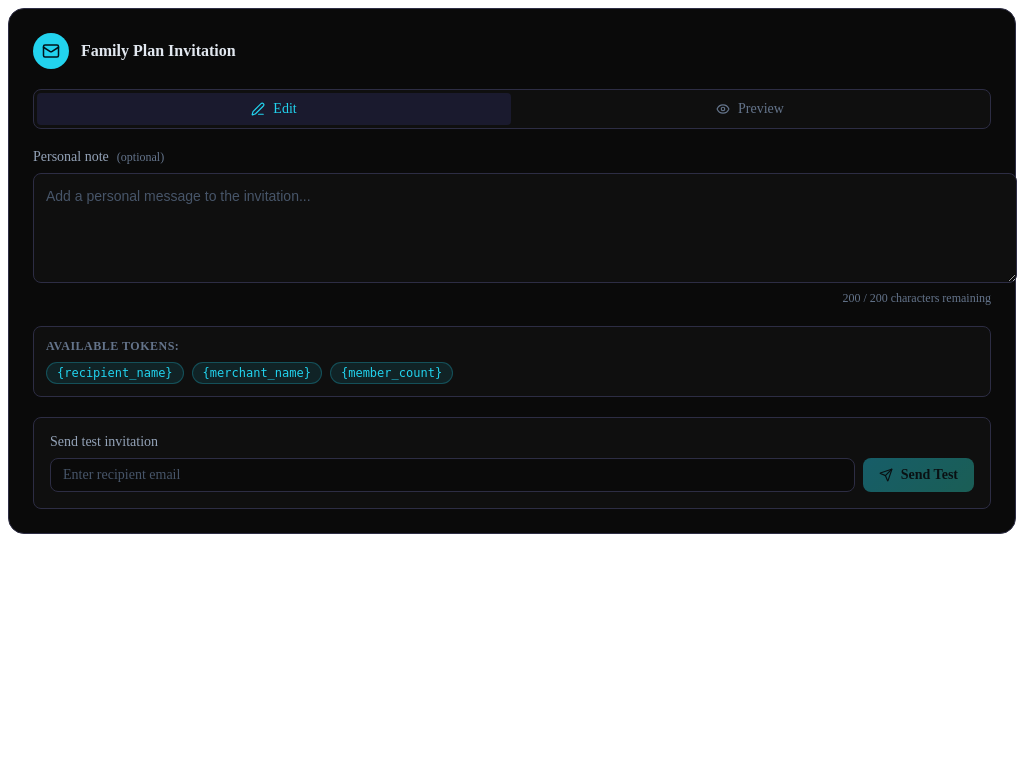
FamilyInvitationPreview › decrements the character counter as the user types
Step 1. Type "Hello" into the text box labelled "Personal note (optional)" → coordinates (525, 228), box [33, 173, 1017, 283]
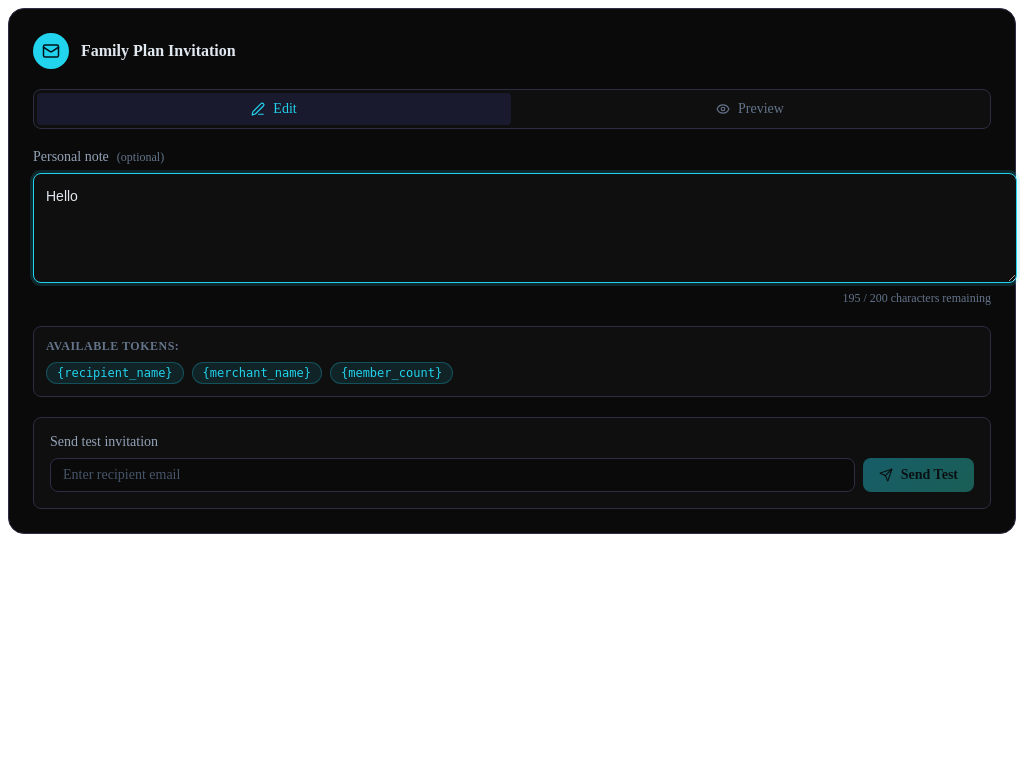
expect the text "195 / 200 characters remaining" is shown: met, box [842, 291, 991, 305]
